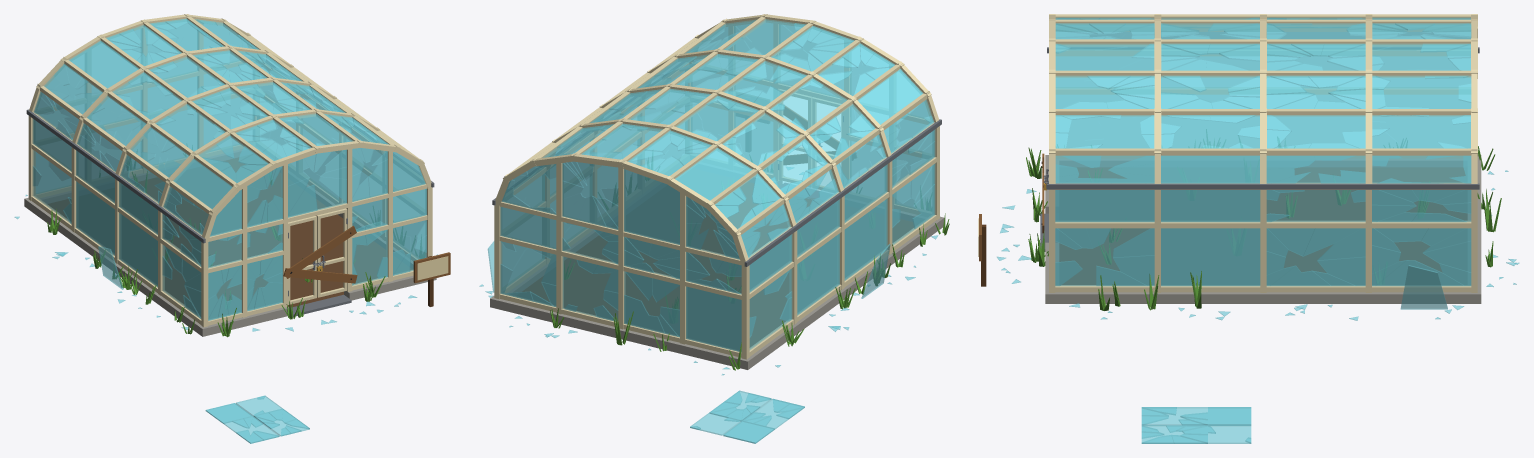
File: Greenhouse.fbx
3 renders of one model, left to right at view 1: azimuth 30°, elevation 25°; view 2: azimuth 150°, elevation 25°; view 3: azimuth 270°, elevation 25°, orthographic. The views are drawn at different scales.
Visible parts, largest first — view 1: Glass_Intact, Glass_Broken, Frame, Floor, Base, Debris_Broken, DoorGlass_R_Intact, DoorGlass_L_Intact, DoorGlass_L_Broken, PurchaseSign, Door_R, DoorGlass_R_Broken (+1 smaller); view 2: Glass_Intact, Glass_Broken, Frame, Floor, Base, Debris_Broken, DoorGlass_R_Intact, DoorGlass_L_Intact, DoorGlass_L_Broken, DoorGlass_R_Broken, Door_R; view 3: Glass_Intact, Glass_Broken, Frame, Floor, Base, Debris_Broken, DoorGlass_R_Intact, DoorGlass_L_Intact, DoorGlass_L_Broken, DoorGlass_R_Broken.
Part boxes in pixels (box(x1,y1,x2,y2)): Glass_Intact: box(33, 19, 426, 320); Glass_Broken: box(33, 19, 426, 320); Frame: box(26, 14, 434, 327); Floor: box(48, 157, 412, 307); Base: box(24, 149, 436, 336); Debris_Broken: box(14, 171, 437, 337); DoorGlass_R_Intact: box(236, 395, 309, 436); DoorGlass_L_Intact: box(206, 403, 279, 443); DoorGlass_L_Broken: box(205, 403, 279, 443); PurchaseSign: box(413, 252, 450, 306); Door_R: box(316, 208, 347, 297); DoorGlass_R_Broken: box(254, 395, 309, 436); Glass_Intact: box(500, 19, 934, 351); Glass_Broken: box(500, 23, 935, 351); Frame: box(492, 14, 941, 359); Floor: box(522, 182, 913, 346); Base: box(490, 176, 944, 369); Debris_Broken: box(479, 106, 949, 375); DoorGlass_R_Intact: box(690, 390, 771, 435); DoorGlass_L_Intact: box(723, 399, 804, 443); DoorGlass_L_Broken: box(723, 399, 804, 443); DoorGlass_R_Broken: box(690, 391, 771, 429); Door_R: box(778, 89, 812, 182); Glass_Intact: box(1055, 18, 1471, 285); Glass_Broken: box(1055, 17, 1471, 286); Frame: box(1047, 14, 1479, 292); Floor: box(1059, 167, 1467, 284); Base: box(1040, 155, 1481, 303); Debris_Broken: box(997, 146, 1519, 320); DoorGlass_R_Intact: box(1141, 425, 1251, 443); DoorGlass_L_Intact: box(1141, 407, 1250, 425); DoorGlass_L_Broken: box(1141, 407, 1251, 425); DoorGlass_R_Broken: box(1141, 425, 1250, 443).
Bounding box in the file's own units: 7.88 × 8.08 × 10.25.
